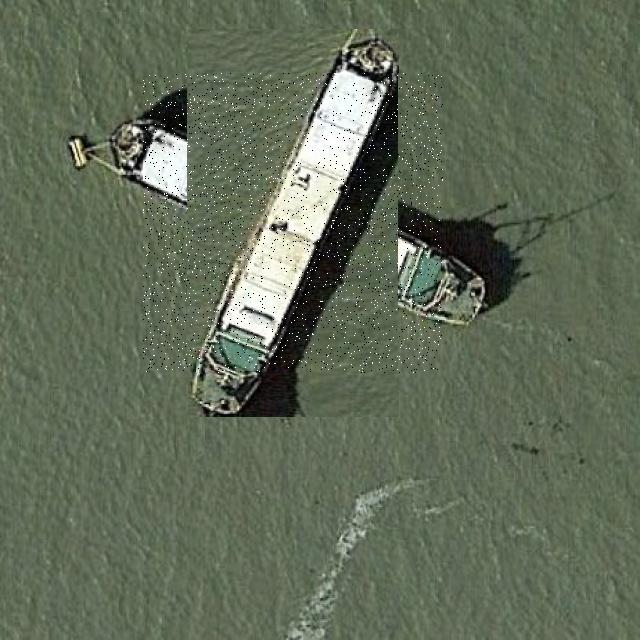boat: (144, 73, 444, 373)
